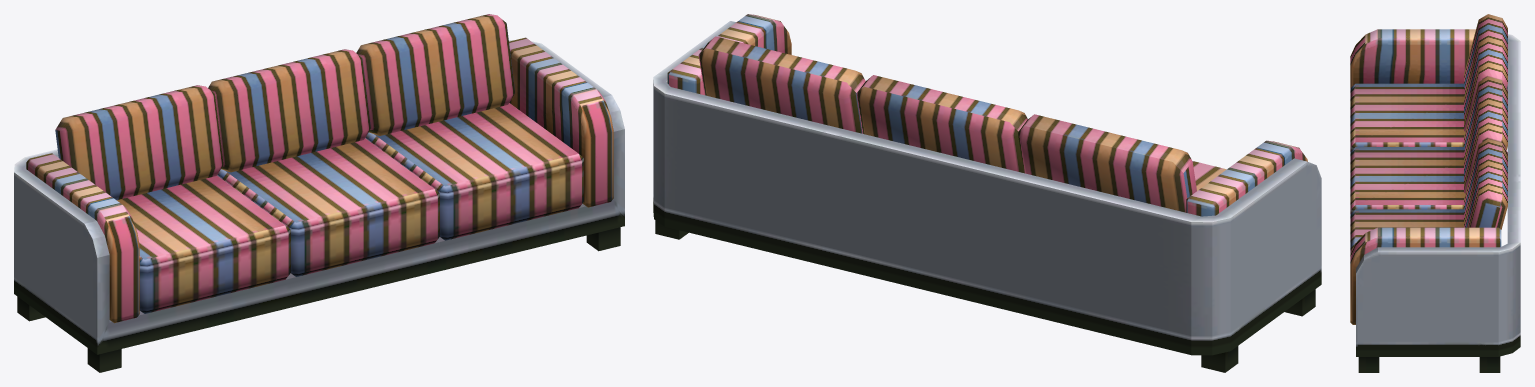
The model's file is furni_0200611.FBX.
The picture shows the model from 3 angles, left to right: view 1: azimuth 30°, elevation 25°; view 2: azimuth 150°, elevation 25°; view 3: azimuth 270°, elevation 25°; orthographic projection. The views are drawn at different scales.
Parts seen in each view (by area): view 1: furni_0200611; view 2: furni_0200611; view 3: furni_0200611.
Boxes of the visible parts, x1,y1,x2,y2 form: furni_0200611: (14,14,624,372); furni_0200611: (653,14,1321,372); furni_0200611: (1350,14,1520,372).
Bounding box in the file's own units: 238 × 80.62 × 77.55.
Materials: 1 (1 with a texture image).
